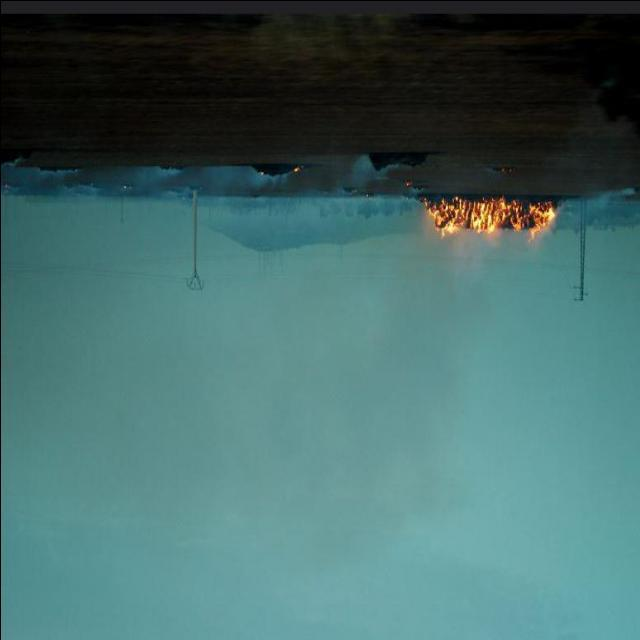Fire: (422, 190, 556, 240)
